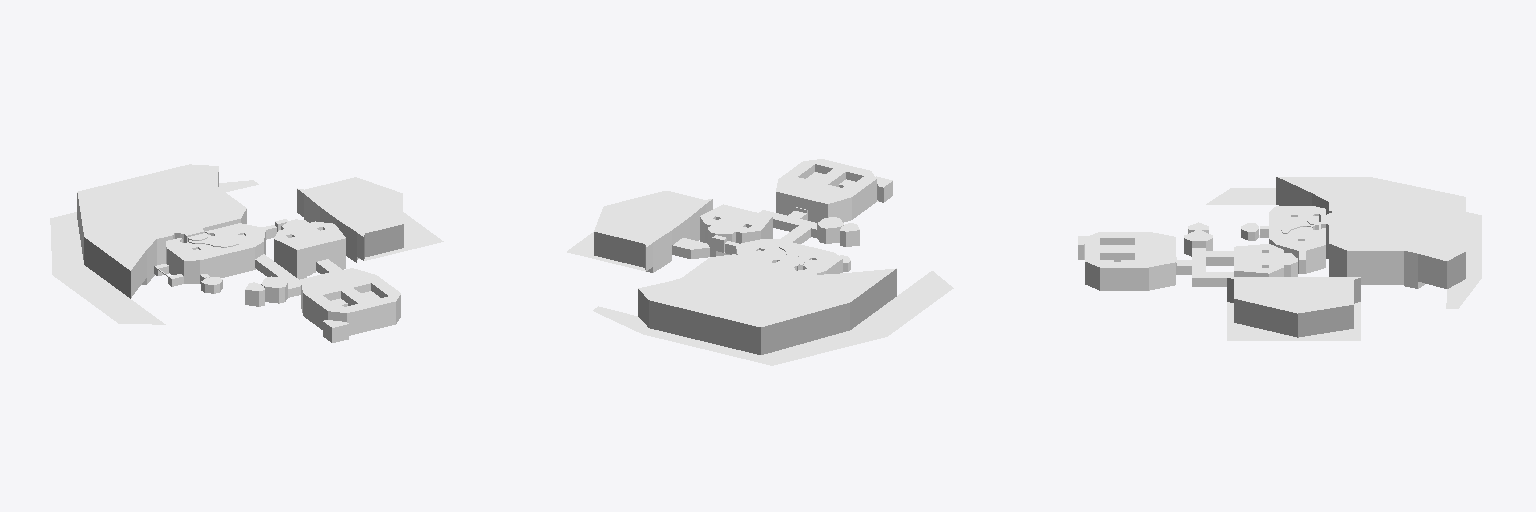
Rendered from LAKAKA_MAP01.obj.
3 views of the same model, side by side, from view 1: azimuth 30°, elevation 25°; view 2: azimuth 150°, elevation 25°; view 3: azimuth 270°, elevation 25° (orthographic).
Parts seen in each view (by area): view 1: MAP01; view 2: MAP01; view 3: MAP01.
Boxes of the visible parts, x1,y1,x2,y2 form: MAP01: [50, 164, 443, 342]; MAP01: [567, 159, 953, 365]; MAP01: [1078, 177, 1481, 340].
Bounding box in the file's own units: 3376 × 365 × 3648.